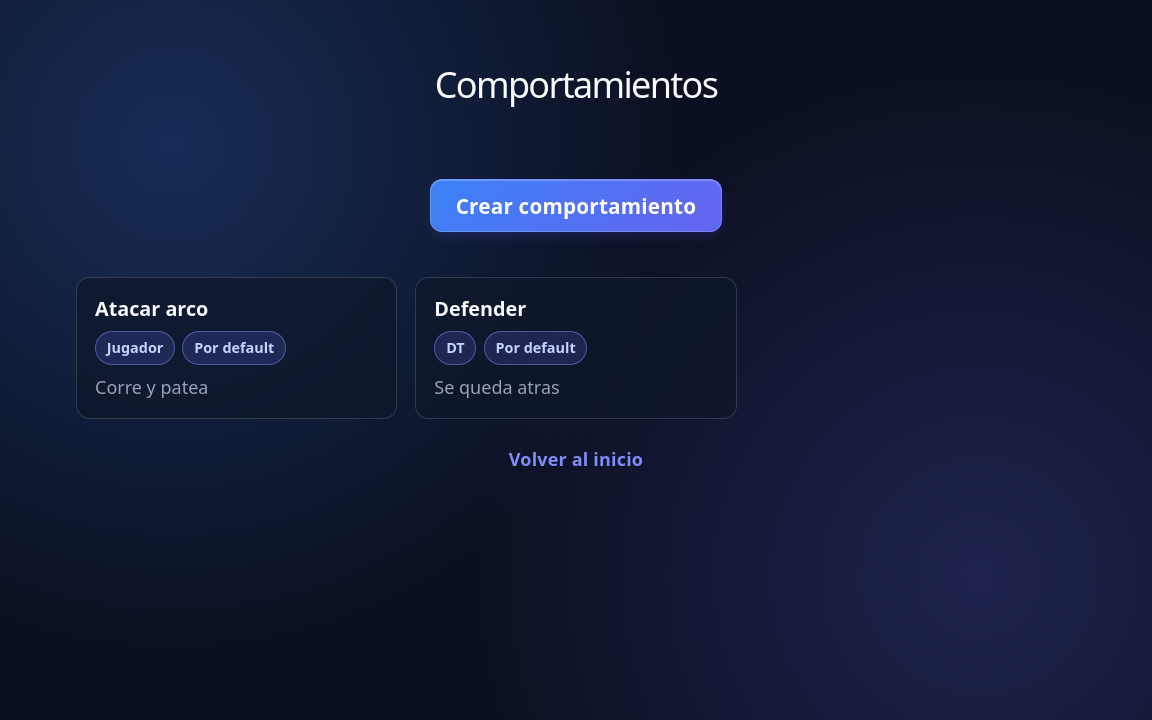
Test case: BehaviorListPage › Interacciones › Debería abrir el detalle al hacer click en una tarjeta y volver a la colección sin volver a pedir la lista
Later steps or results of the test are not shown.
Click the button "Atacar arco Jugador Por default Corre y patea" at [237, 348], box [76, 277, 397, 419]
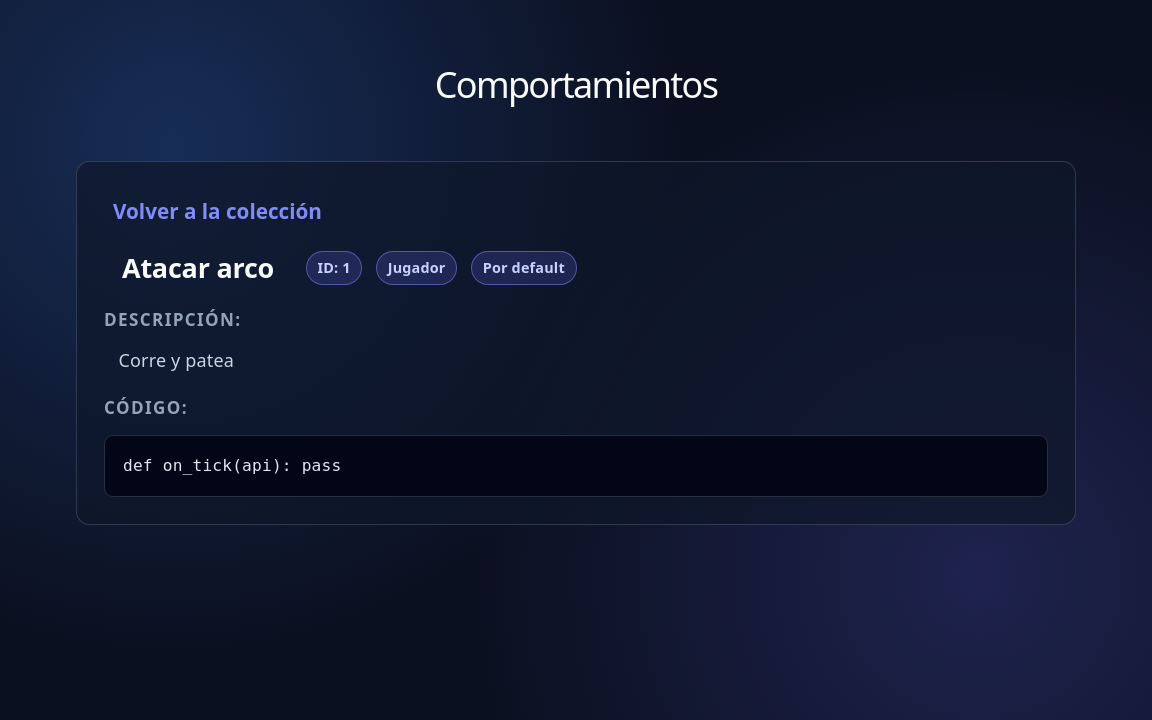
Check: the text "def on_tick(api): pass" is shown, box [104, 435, 1048, 497]
Check: no buttons with test id "behavior-card" are shown
